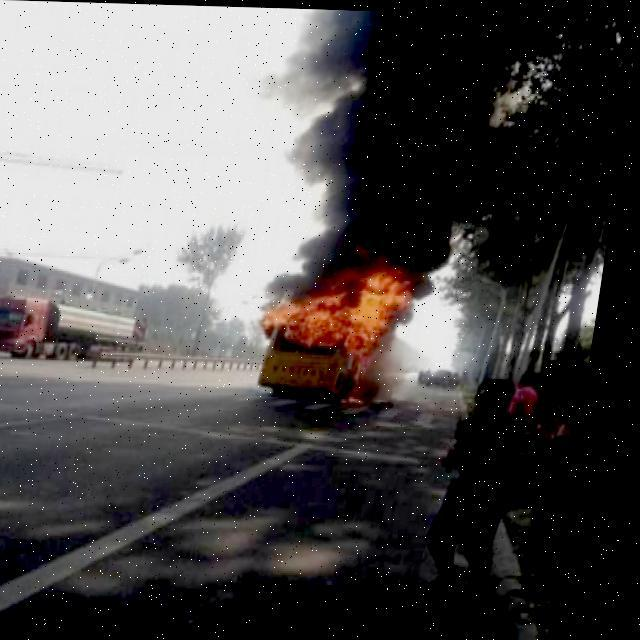Fire: (272, 244, 426, 402)
